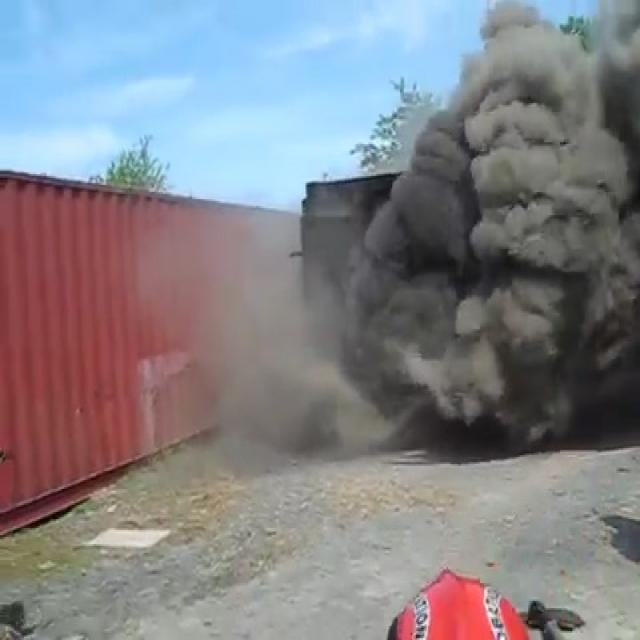Smoke: (372, 30, 640, 439)
